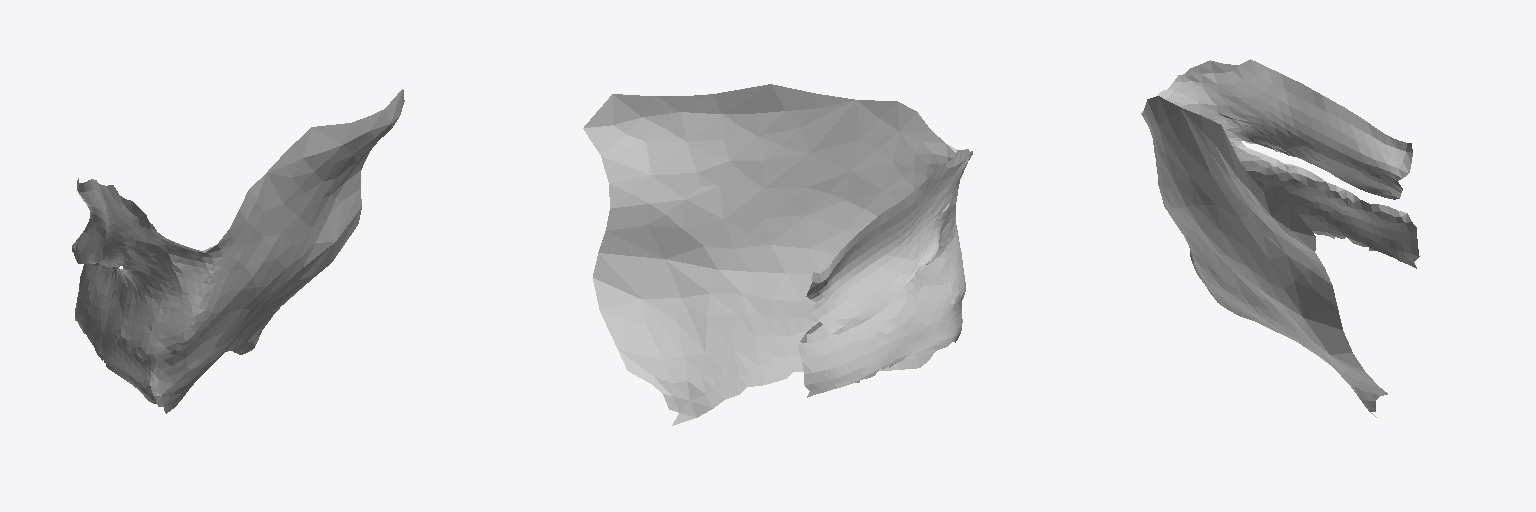
File: LmaxillaFace_Incomplete.obj
3 renders of one model, left to right at view 1: azimuth 30°, elevation 25°; view 2: azimuth 150°, elevation 25°; view 3: azimuth 270°, elevation 25°, orthographic.
Bounding box in the file's own units: 1.35 × 1.11 × 0.9769.